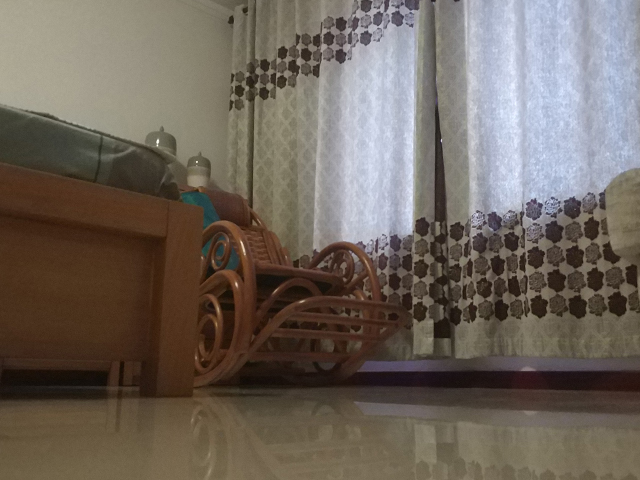bed: (1, 103, 208, 405)
curtain: (226, 1, 639, 362)
